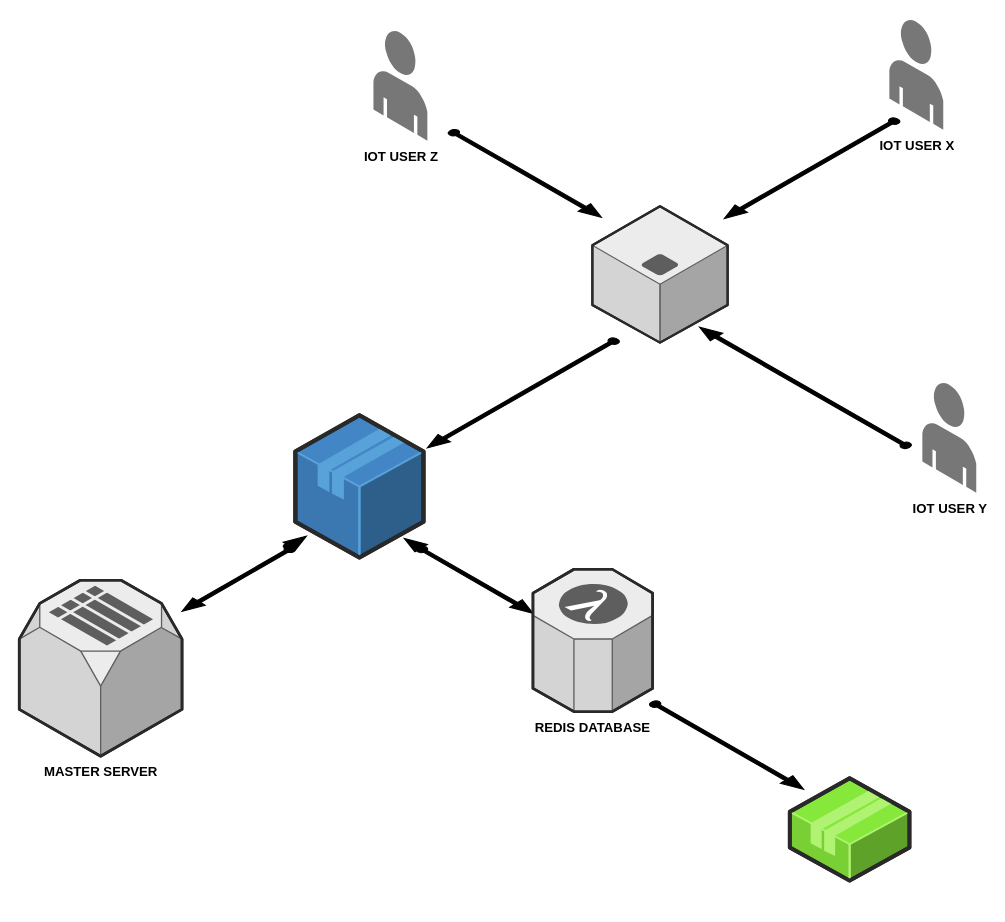
Image size: 1005x922. Some labels were removed from this diagram. Each missing label, with the centre of its shape:
"ENRICHMENT SERVER" belongs at pixel 359 485.
"IOT MESSAGER" belongs at pixel 659 274.
"REDIS CONSUMER" belongs at pixel 849 829.
